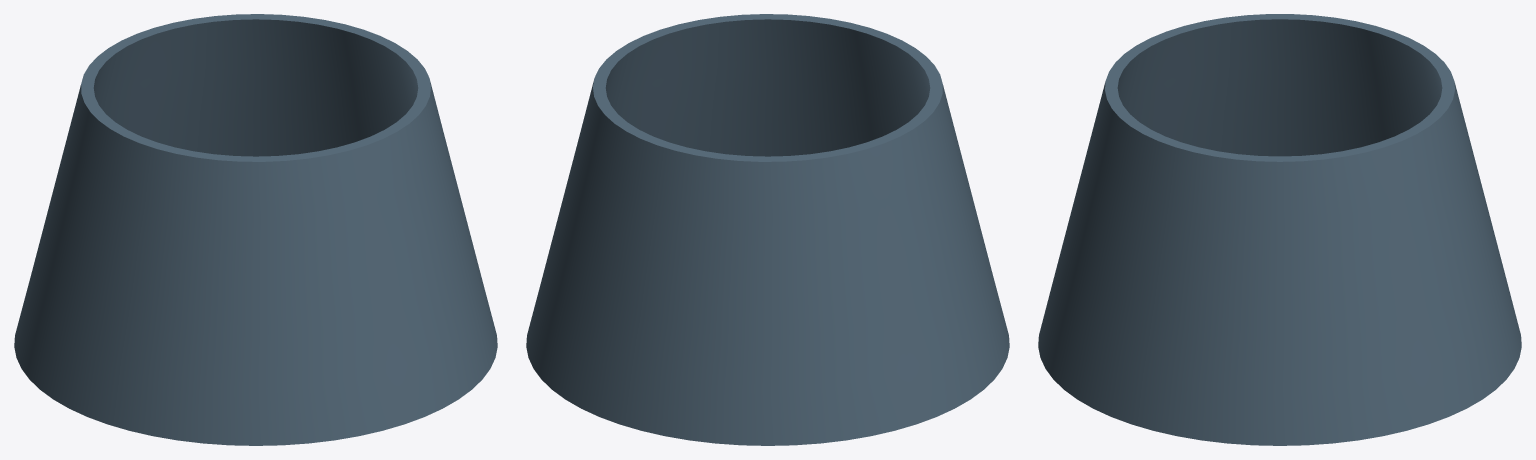
The model's file is perehod-377x12-273x10-L220.glb.
The picture shows the model from 3 angles, left to right: view 1: azimuth 30°, elevation 25°; view 2: azimuth 150°, elevation 25°; view 3: azimuth 270°, elevation 25°; orthographic projection.
Parts seen in each view (by area): view 1: Open CASCADE STEP translator 7.9 64; view 2: Open CASCADE STEP translator 7.9 64; view 3: Open CASCADE STEP translator 7.9 64.
Boxes of the visible parts, x1=… form: Open CASCADE STEP translator 7.9 64: x1=14, y1=14, x2=497, y2=445; Open CASCADE STEP translator 7.9 64: x1=526, y1=14, x2=1009, y2=445; Open CASCADE STEP translator 7.9 64: x1=1038, y1=14, x2=1521, y2=445.
Bounding box in the file's own units: 377 × 220 × 377.
